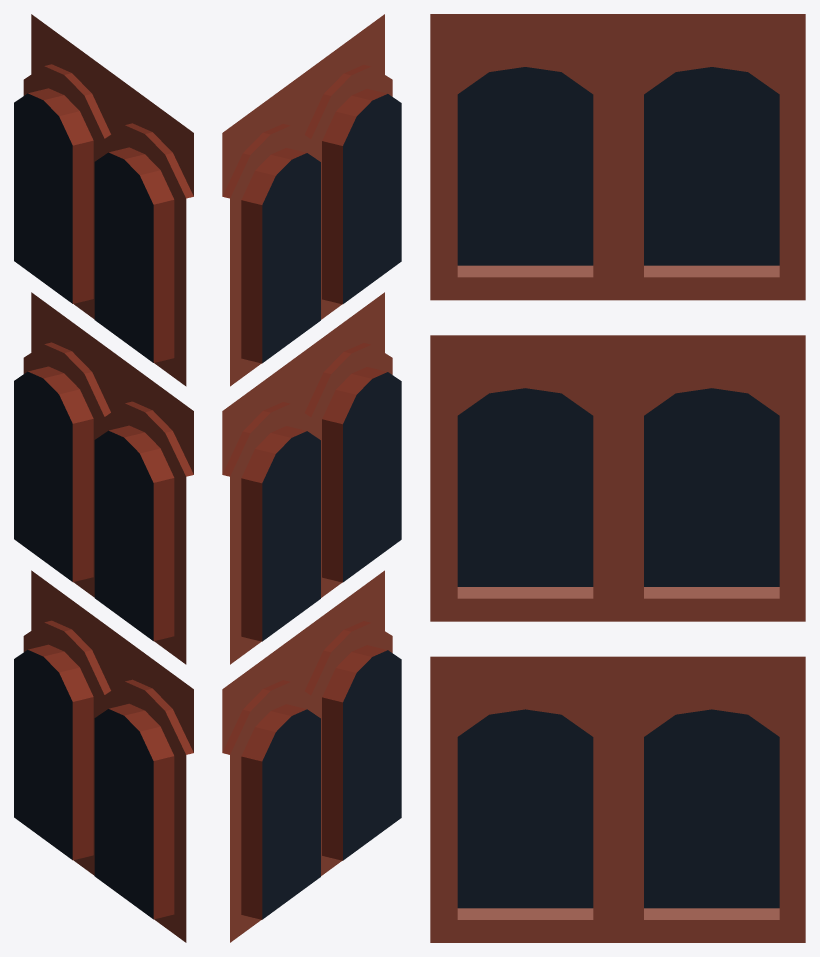
Rendered from red_brick_building_window.fbx.
3 views of the same model, side by side, from view 1: azimuth 30°, elevation 25°; view 2: azimuth 150°, elevation 25°; view 3: azimuth 270°, elevation 25° (orthographic). The views are drawn at different scales.
Parts seen in each view (by area): view 1: red_brick_building_window; view 2: red_brick_building_window; view 3: red_brick_building_window.
Boxes of the visible parts, box(x1,y1,x2,y2) form: red_brick_building_window: box(14, 14, 193, 942); red_brick_building_window: box(222, 14, 401, 942); red_brick_building_window: box(430, 14, 805, 942).
Size of the model in its own units: 34.53 by 933 by 340.
